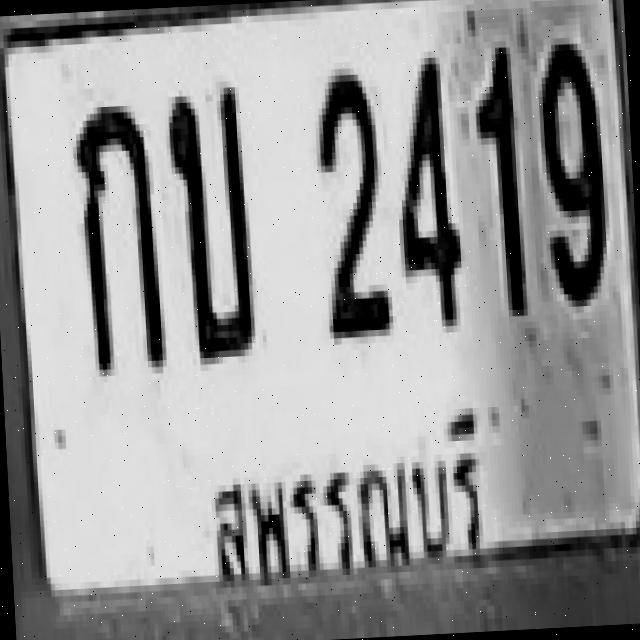1: (469, 41, 524, 318)
10GorGai: (70, 98, 164, 377)
2: (311, 67, 392, 339)
35BorBaiMai: (164, 80, 256, 366)
4: (389, 50, 463, 328)
9: (536, 36, 610, 302)
SuphanBuri: (177, 392, 515, 602)
